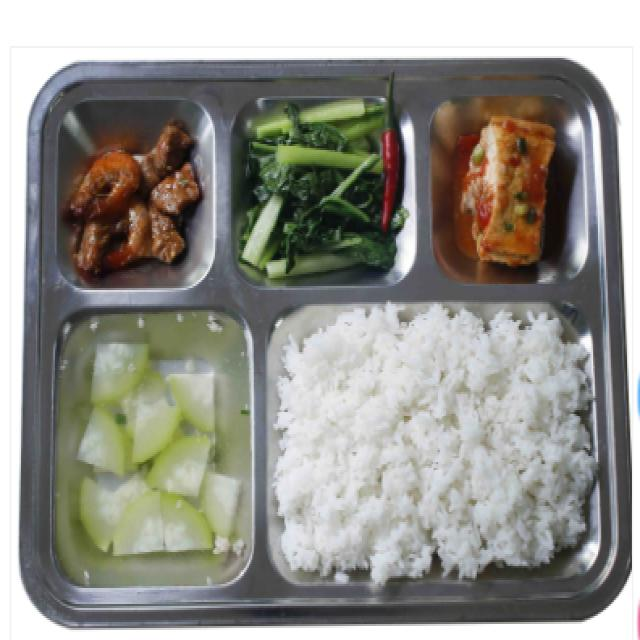canh bau: (78, 350, 239, 556)
com: (273, 304, 595, 582)
dau hu: (71, 124, 184, 268), (462, 116, 551, 264)
kho tieu: (66, 124, 199, 274)
